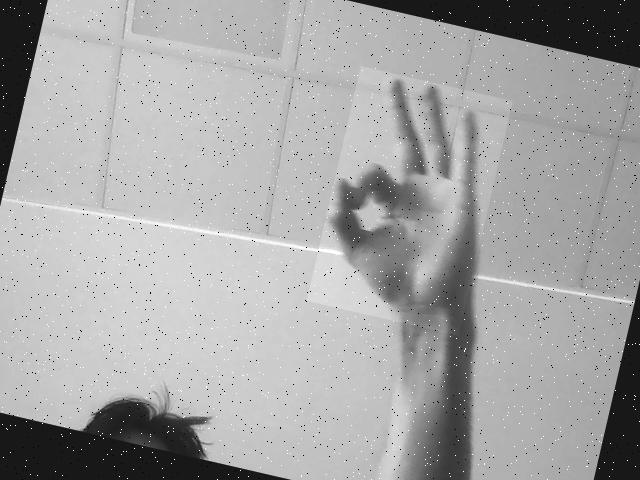OK: (329, 78, 485, 318)
